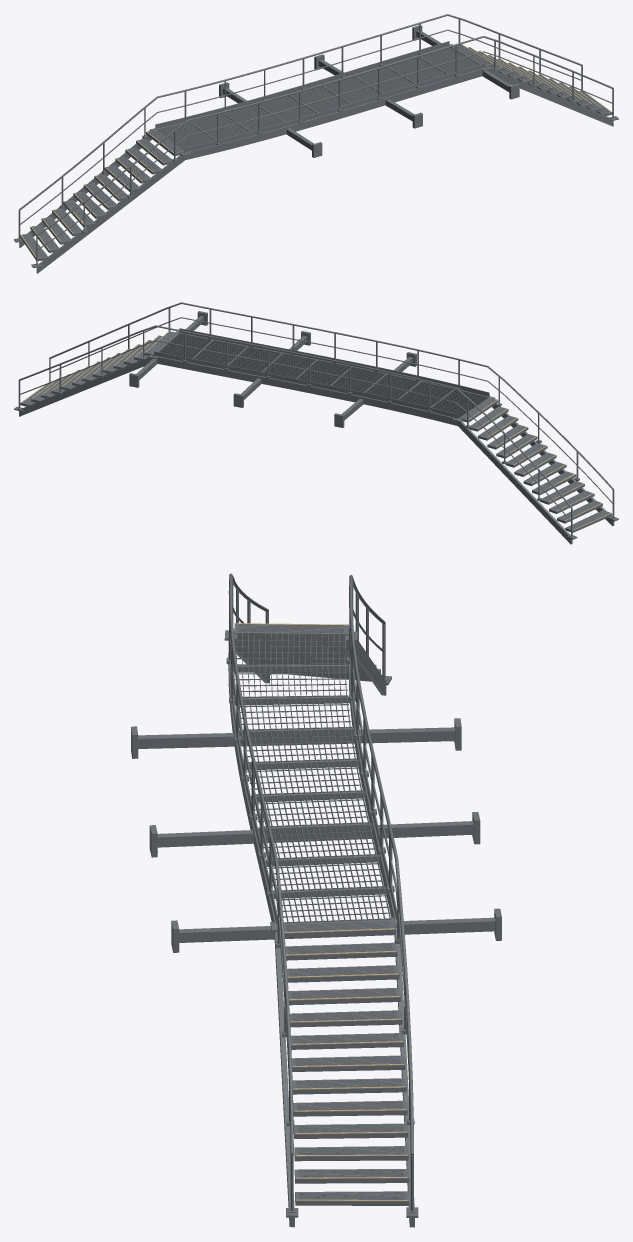
Rendered from BD_T08_UpperWalk.fbx.
3 renders of one model, top to bottom at view 1: azimuth 30°, elevation 25°; view 2: azimuth 150°, elevation 25°; view 3: azimuth 270°, elevation 25°, orthographic. The views are drawn at different scales.
Visible parts, largest first — view 1: BD_T08_UpperWalk; view 2: BD_T08_UpperWalk; view 3: BD_T08_UpperWalk.
Boxes of the visible parts, <box> form: BD_T08_UpperWalk: <box>14,14,618,273</box>; BD_T08_UpperWalk: <box>14,302,618,544</box>; BD_T08_UpperWalk: <box>131,573,501,1227</box>.
Bounding box in the file's own units: 1719 × 350 × 488.
